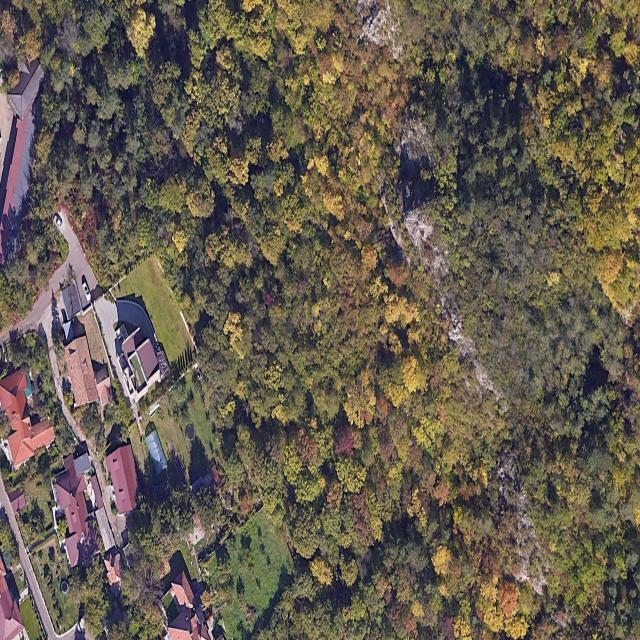building: (0, 239, 211, 639), (0, 63, 47, 267), (164, 555, 227, 639), (0, 563, 28, 639)
